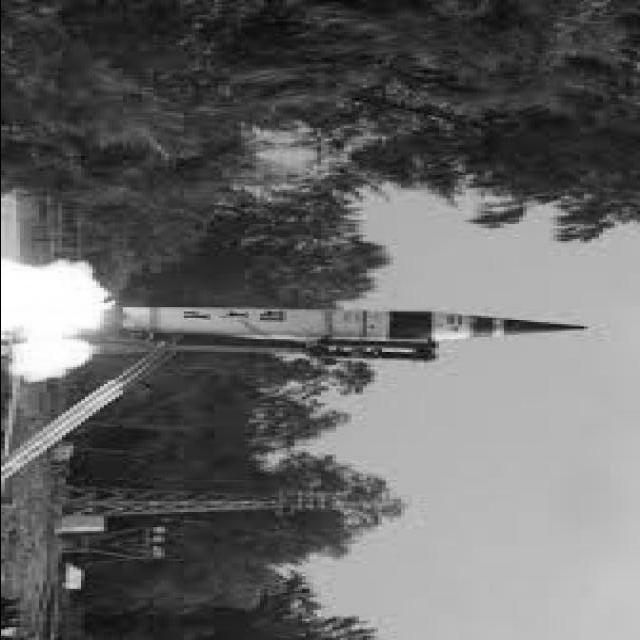missile: (105, 298, 595, 352)
